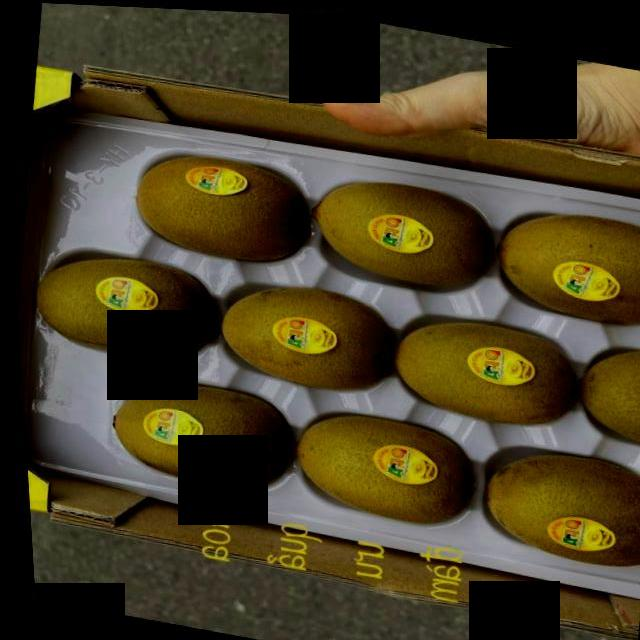kiwi: (117, 134, 320, 276), (384, 294, 582, 433), (92, 362, 294, 495), (23, 238, 221, 371), (303, 164, 500, 293), (284, 400, 479, 529), (210, 267, 398, 398), (468, 432, 640, 569), (487, 196, 640, 329), (562, 325, 640, 453)
